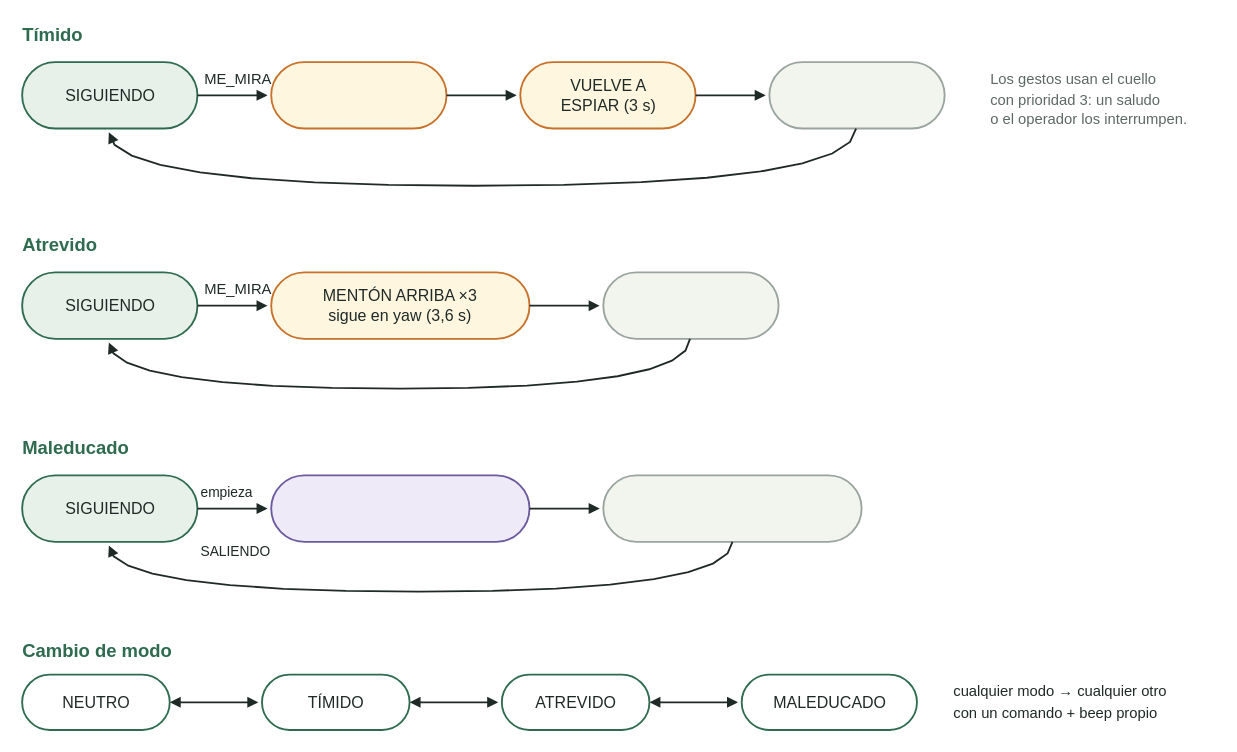
This 1237x752 diagram has some shape labels left out. The box of each missing label's shape, as (x1, y1, x2, y2) in pixels:
cooldown global 40 s 1 vez por salida: (602, 474, 862, 542)
DESVÍA y SOSTIENE 2,5 s: (270, 61, 447, 129)
ESPERA 3 s: (602, 271, 779, 339)
ESPERA 3 s (misma persona): (768, 61, 945, 129)
PIROPO (buzzer) convive con el seguimiento: (270, 474, 530, 542)
